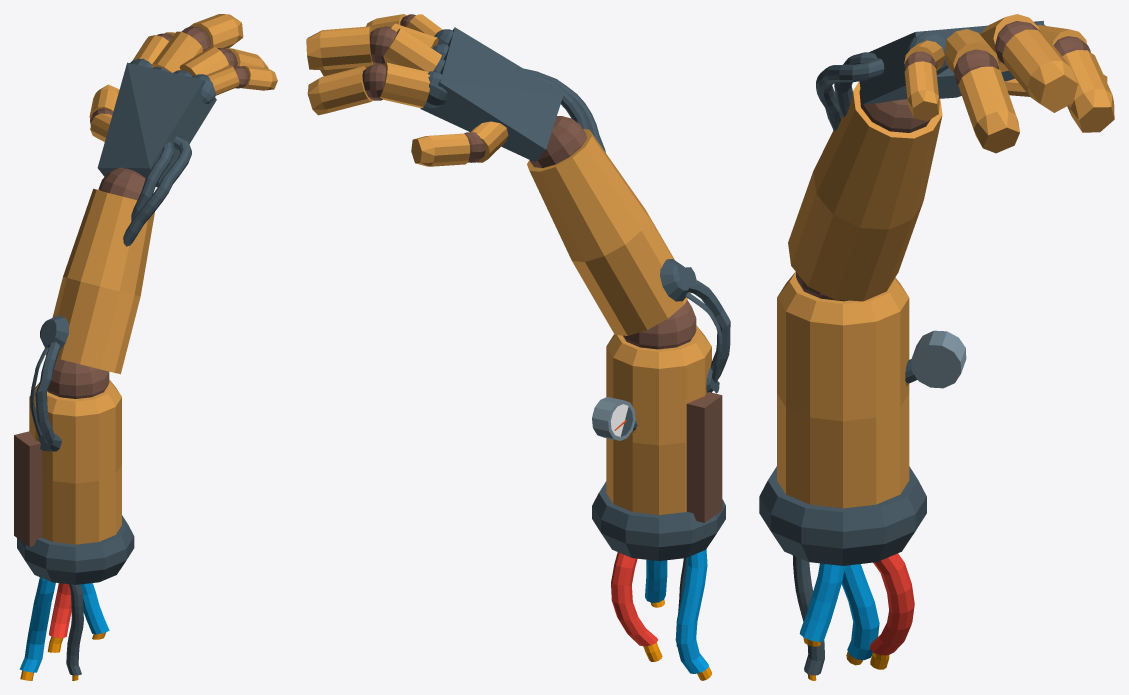
Rendered from Robot Arm.glb.
3 views of the same model, side by side, from view 1: azimuth 30°, elevation 25°; view 2: azimuth 150°, elevation 25°; view 3: azimuth 270°, elevation 25° (orthographic). The views are drawn at different scales.
Visible parts, largest first — view 1: group1635740804, group844252943, group1823387630, group1545025821, group1149278423, group1951936200, group504573085, group132751941, group1112429112, group2009042071, group1827915836, group856755440 (+10 smaller); view 2: group1635740804, group844252943, group1823387630, group1545025821, group81313481, group1149278423, group1227634880, group504573085, group1549824649, group59892056, group1951936200, group497490012 (+8 smaller); view 3: group844252943, group1635740804, group1545025821, group2009042071, group1549824649, group81313481, group1823387630, group59892056, group497490012, group1112429112, group504573085, group796107748 (+6 smaller).
Boxes of the visible parts, <box> form: group1635740804: <box>44,188,154,374</box>; group844252943: <box>29,379,121,544</box>; group1823387630: <box>97,62,216,187</box>; group1545025821: <box>17,515,134,584</box>; group1149278423: <box>14,431,42,546</box>; group1951936200: <box>47,358,109,398</box>; group504573085: <box>19,577,55,672</box>; group132751941: <box>123,136,191,246</box>; group1112429112: <box>206,65,277,95</box>; group2009042071: <box>179,47,268,75</box>; group1827915836: <box>35,342,60,447</box>; group856755440: <box>151,31,202,72</box>; group1635740804: <box>527,129,690,335</box>; group844252943: <box>606,325,711,514</box>; group1823387630: <box>420,27,563,162</box>; group1545025821: <box>592,481,725,560</box>; group81313481: <box>307,62,429,115</box>; group1149278423: <box>686,392,722,522</box>; group1227634880: <box>411,121,508,166</box>; group504573085: <box>675,549,708,673</box>; group1549824649: <box>306,26,373,69</box>; group59892056: <box>611,552,657,646</box>; group1951936200: <box>623,300,696,349</box>; group497490012: <box>592,397,635,440</box>; group844252943: <box>777,271,909,508</box>; group1635740804: <box>788,81,942,301</box>; group1545025821: <box>759,466,926,565</box>; group2009042071: <box>944,29,1019,153</box>; group1549824649: <box>1002,29,1077,112</box>; group81313481: <box>1037,25,1114,132</box>; group1823387630: <box>859,20,1044,104</box>; group59892056: <box>869,553,914,655</box>; group497490012: <box>911,330,966,388</box>; group1112429112: <box>904,40,944,120</box>; group504573085: <box>841,564,879,659</box>; group796107748: <box>799,563,844,641</box>.
Bounding box in the file's own units: 0.5507 × 0.9967 × 0.4028.
